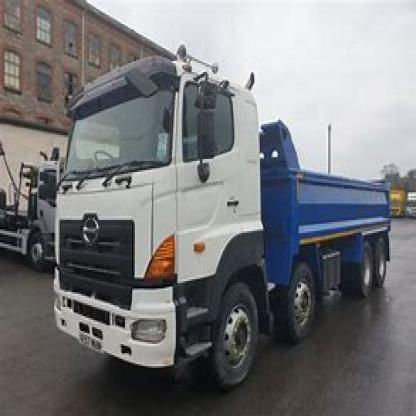dump_truck: (45, 48, 404, 401)
